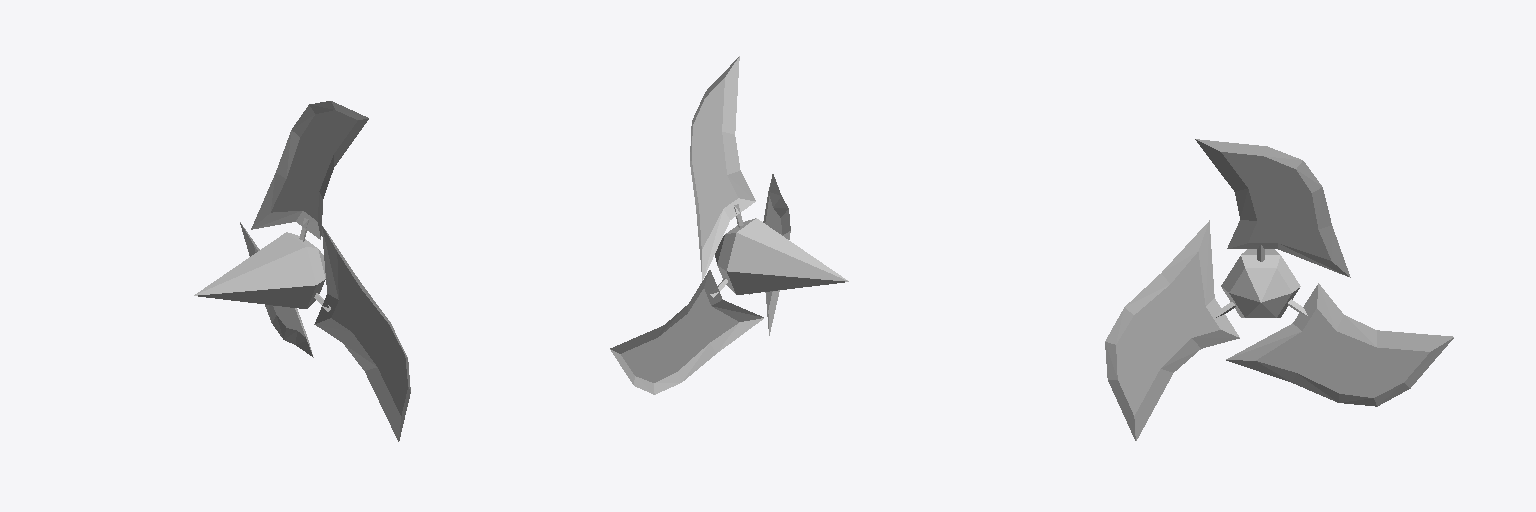
The model's file is stg400_MotFan_g5_07.obj.
3 views of the same model, side by side, from view 1: azimuth 30°, elevation 25°; view 2: azimuth 150°, elevation 25°; view 3: azimuth 270°, elevation 25° (orthographic).
Parts seen in each view (by area): view 1: polygon1, polygon0; view 2: polygon1, polygon0; view 3: polygon1, polygon0.
Boxes of the visible parts, x1=… form: polygon1: x1=240, y1=101, x2=410, y2=441; polygon0: x1=194, y1=232, x2=325, y2=308; polygon1: x1=610, y1=56, x2=790, y2=394; polygon0: x1=715, y1=218, x2=848, y2=294; polygon1: x1=1105, y1=139, x2=1453, y2=440; polygon0: x1=1221, y1=249, x2=1300, y2=317.
Size of the model in its own units: 18.02 by 36.04 by 37.72.